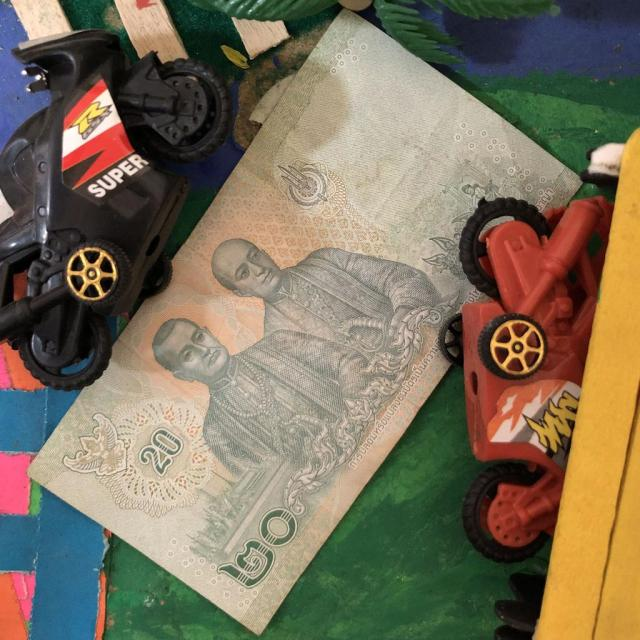THAI20: (29, 11, 582, 636)
